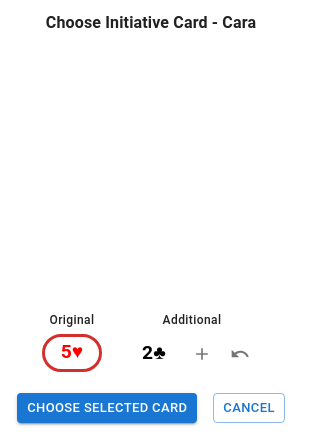
Test: CardChooserModal › draw tooltips close on click
The width and height of the screenshot is (320, 443).
Hover over the button named "Undo last draw" at (240, 354), box [225,339,255,369]
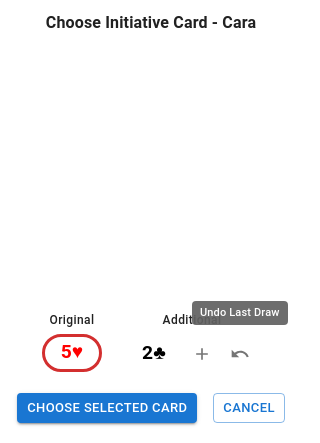
expect the tooltip reads "Undo Last Draw": met, box [200,306,280,318]
Click the button named "Undo last draw" at (240, 354), box [225,339,255,369]
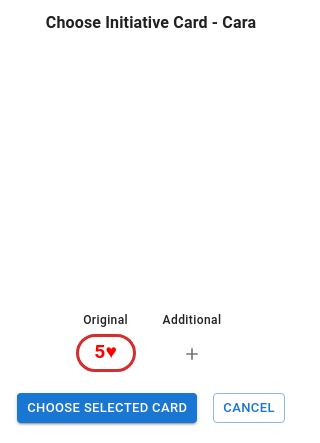
expect the tooltip "Undo Last Draw" is gone: met
